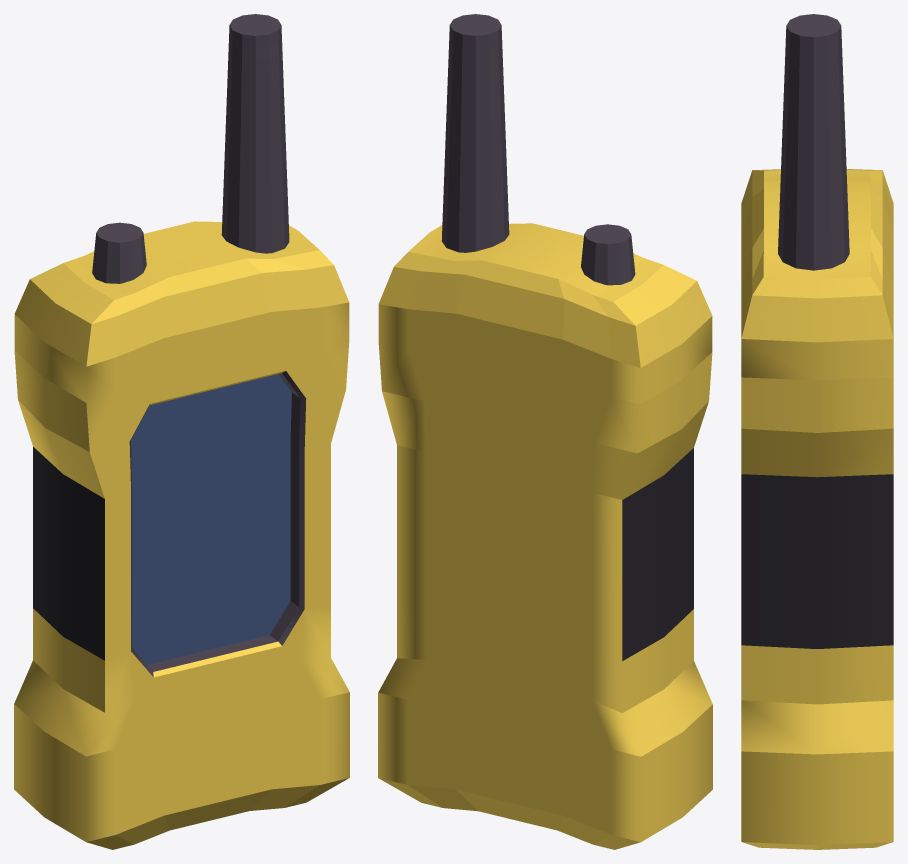
Rendered from walki_talki_mb.fbx.
3 views of the same model, side by side, from view 1: azimuth 30°, elevation 25°; view 2: azimuth 150°, elevation 25°; view 3: azimuth 270°, elevation 25° (orthographic). The views are drawn at different scales.
Visible parts, largest first — view 1: pPlane2; view 2: pPlane2; view 3: pPlane2.
Boxes of the visible parts, x1=… form: pPlane2: x1=14, y1=14, x2=349, y2=849; pPlane2: x1=378, y1=14, x2=712, y2=849; pPlane2: x1=741, y1=14, x2=893, y2=849.
Bounding box in the file's own units: 8.63 × 22.89 × 3.9.
